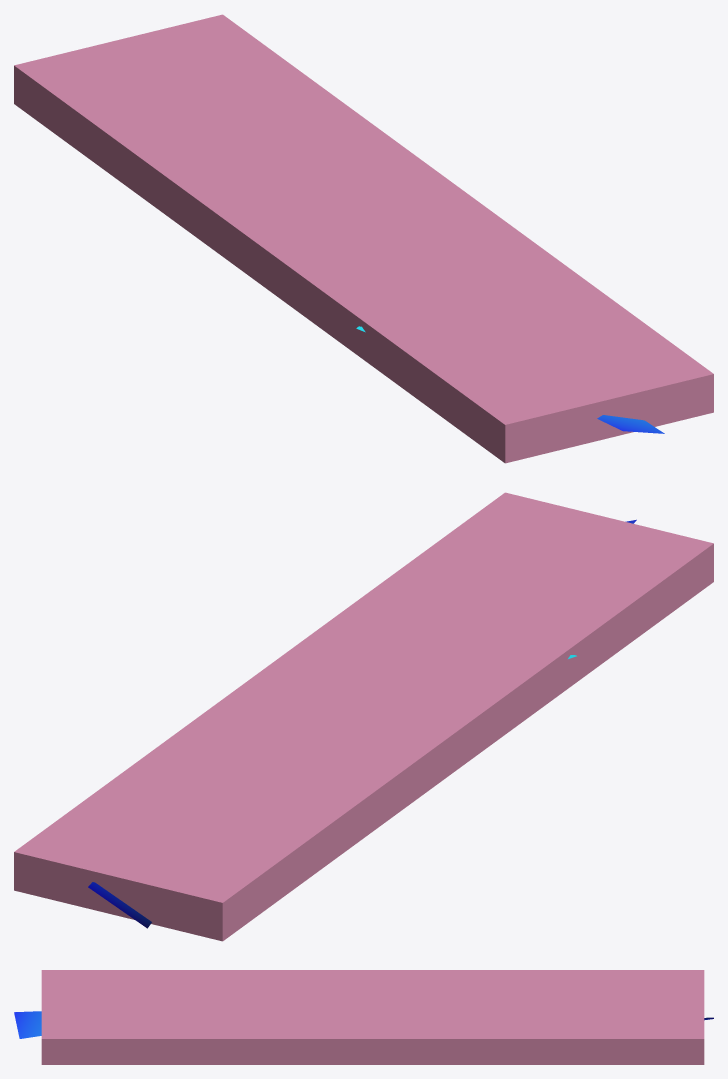
The model's file is vine_ground_medium.dae.
3 renders of one model, top to bottom at view 1: azimuth 30°, elevation 25°; view 2: azimuth 150°, elevation 25°; view 3: azimuth 270°, elevation 25°, orthographic. The views are drawn at different scales.
Parts seen in each view (by area): view 1: Untitled; view 2: Untitled; view 3: Untitled, tree_oak_bush_a90.
Boxes of the visible parts, left/top/right/bottom form: Untitled: left=14, top=14, right=713, bottom=463; Untitled: left=14, top=492, right=713, bottom=941; Untitled: left=41, top=970, right=704, bottom=1064; tree_oak_bush_a90: left=14, top=1011, right=712, bottom=1038.
Bounding box in the file's own units: 0.972 × 4.06 × 0.1664.
